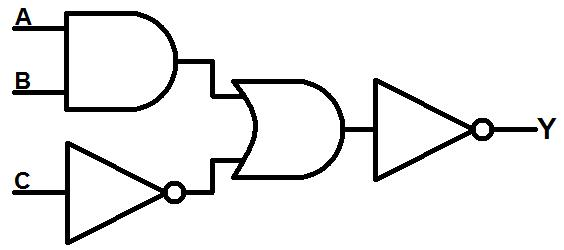and: (57, 7, 182, 116)
not: (368, 72, 498, 186), (58, 138, 192, 247)
or: (227, 71, 353, 187)
